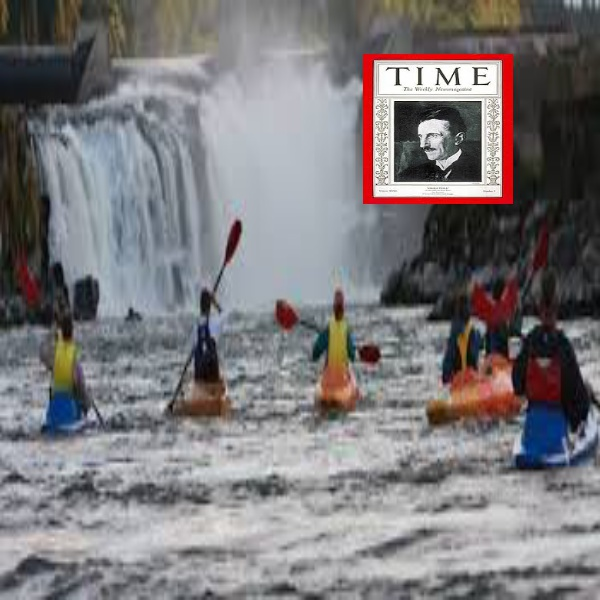time_cover: (356, 45, 521, 214)
